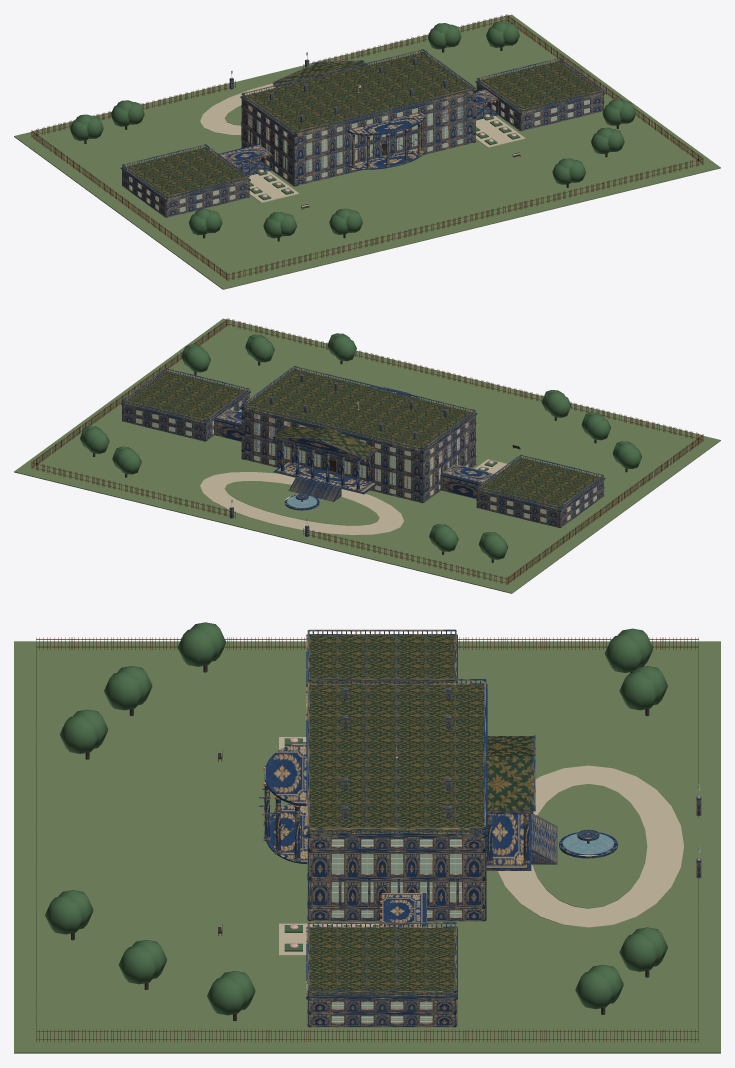
Rendered from white-house-exterior.gltf.
3 renders of one model, top to bottom at view 1: azimuth 30°, elevation 25°; view 2: azimuth 150°, elevation 25°; view 3: azimuth 270°, elevation 25°, orthographic. The views are drawn at different scales.
Parts seen in each view (by area): view 1: grounds:-1:grounds:grass:, residence:6:roof:slate:, grounds:-1:grounds:foliage:, grounds:-1:grounds:bronze:, residence:1:exterior:stone:S, east:6:roof:slate:, west:6:roof:slate:, grounds:-1:grounds:gravel:, residence:6:roof:stone:, residence:3:exterior:stone:S, west:6:roof:stone:, east:6:roof:stone: (+14 smaller); view 2: grounds:-1:grounds:grass:, residence:6:roof:slate:, grounds:-1:grounds:bronze:, grounds:-1:grounds:foliage:, residence:1:exterior:stone:N, grounds:-1:grounds:gravel:, east:6:roof:slate:, west:6:roof:slate:, residence:6:roof:stone:, residence:1:exterior:slate:N, east:6:roof:stone:, west:6:roof:stone: (+14 smaller); view 3: grounds:-1:grounds:grass:, residence:6:roof:slate:, grounds:-1:grounds:foliage:, grounds:-1:grounds:gravel:, east:6:roof:slate:, west:6:roof:slate:, grounds:-1:grounds:bronze:, residence:1:exterior:stone:S, residence:1:exterior:stone:N, residence:6:roof:stone:, residence:1:exterior:slate:N, residence:3:exterior:stone:E (+16 smaller).
Boxes of the visible parts, x1,y1,x2,y2 form: grounds:-1:grounds:grass:: (14,14,720,289); residence:6:roof:slate:: (243,52,473,133); grounds:-1:grounds:foliage:: (70,21,636,238); grounds:-1:grounds:bronze:: (31,14,703,280); residence:1:exterior:stone:S: (294,112,475,176); east:6:roof:slate:: (479,61,601,111); west:6:roof:slate:: (124,147,247,198); grounds:-1:grounds:gravel:: (200,83,525,202); residence:6:roof:stone:: (240,49,477,136); residence:3:exterior:stone:S: (294,101,475,160); west:6:roof:stone:: (120,144,250,201); east:6:roof:stone:: (475,58,605,114); grounds:-1:grounds:grass:: (14,318,720,593); residence:6:roof:slate:: (243,369,473,450); grounds:-1:grounds:bronze:: (31,318,703,584); grounds:-1:grounds:foliage:: (80,333,641,559); residence:1:exterior:stone:N: (242,435,423,501); grounds:-1:grounds:gravel:: (200,459,509,535); east:6:roof:slate:: (124,371,247,422); west:6:roof:slate:: (478,458,601,508); residence:6:roof:stone:: (240,366,477,453); residence:1:exterior:slate:N: (274,426,376,458); east:6:roof:stone:: (120,368,250,425); west:6:roof:stone:: (475,454,605,511); grounds:-1:grounds:grass:: (14,641,720,1053); residence:6:roof:slate:: (309,684,484,832); grounds:-1:grounds:foliage:: (45,622,667,1015); grounds:-1:grounds:gravel:: (279,737,684,955); east:6:roof:slate:: (309,928,454,994); west:6:roof:slate:: (309,635,454,683); grounds:-1:grounds:bronze:: (36,637,698,1041); residence:1:exterior:stone:S: (259,742,308,906); residence:1:exterior:stone:N: (485,735,557,906); residence:6:roof:stone:: (306,679,487,836); residence:1:exterior:slate:N: (483,736,533,810); residence:3:exterior:stone:E: (308,852,485,876).
Bounding box in the file's own units: 132 × 15.57 × 96.
16 materials, 9 textured.
